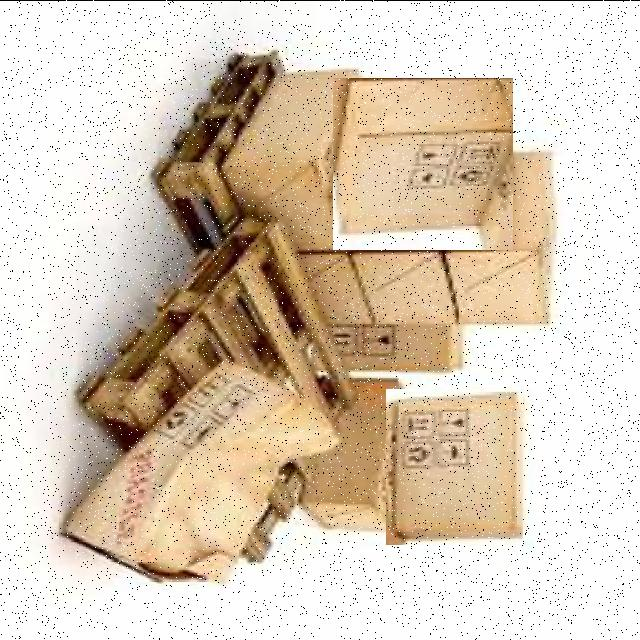defect: (61, 364, 342, 584)
normal: (332, 77, 512, 249), (386, 388, 523, 544)
